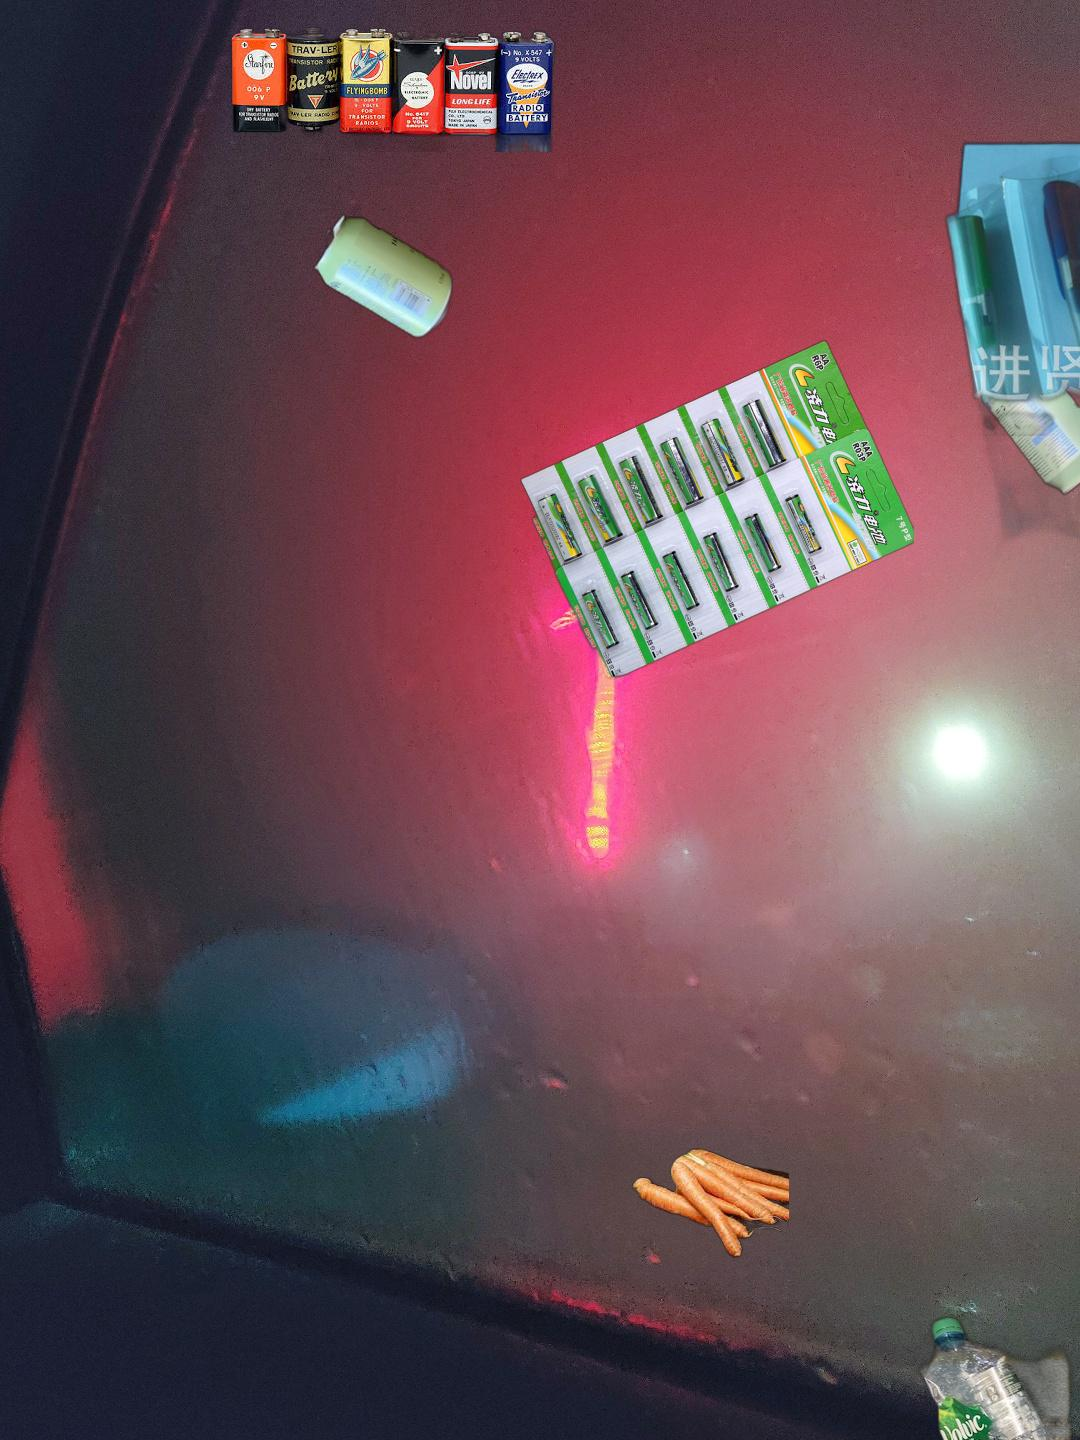battery: (517, 339, 914, 679), (228, 25, 569, 152)
biological: (622, 1146, 788, 1261)
metal-cans: (311, 210, 457, 344), (977, 347, 1080, 500)
penholder: (940, 93, 1080, 738)
plastic-bag: (980, 178, 1080, 437)
plastic-bottles: (909, 1311, 1080, 1440)
